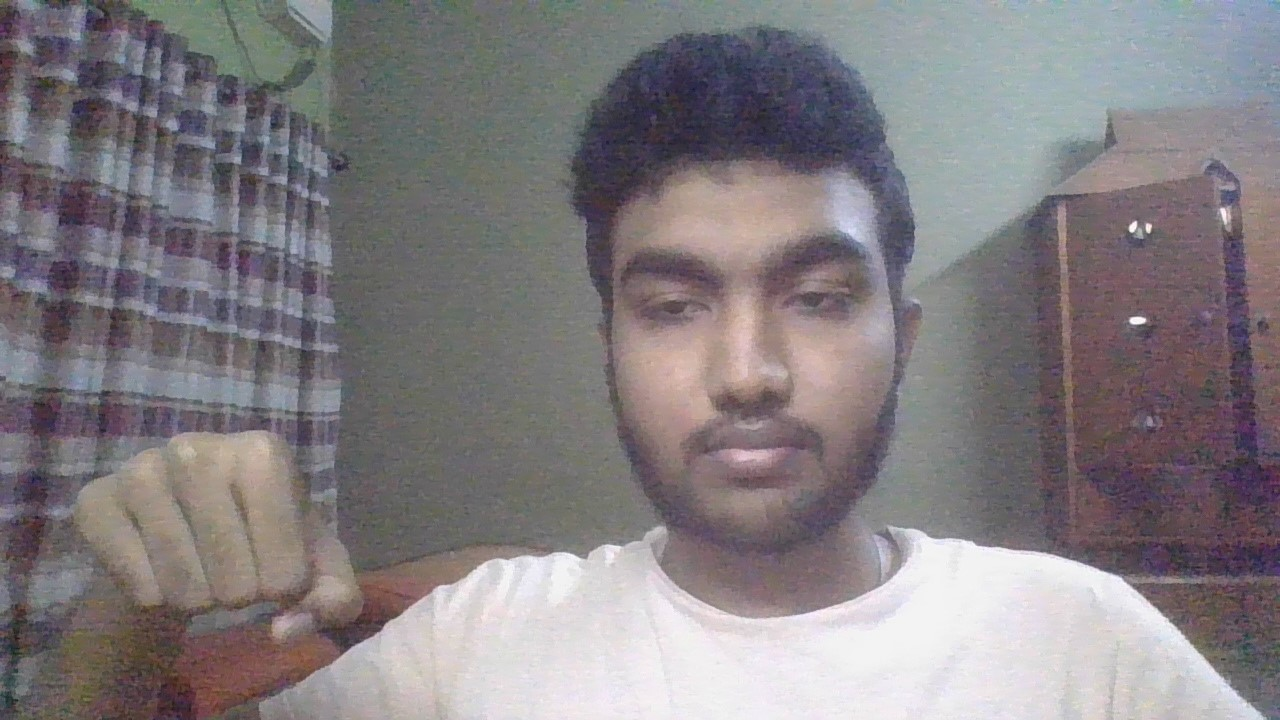Yes: (51, 421, 383, 657)
